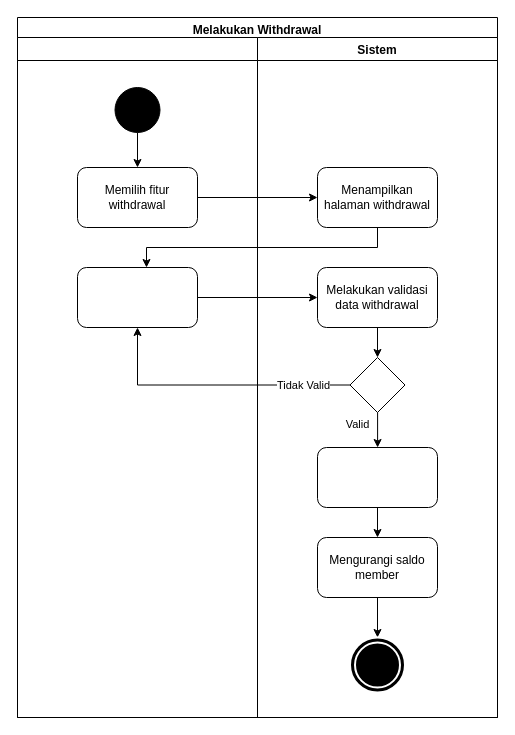
The diagram is 515 pixels wide and 735 high, and some of its shapes have lost their labels. Each missing label, with the box of its shape:
Member: (16, 36, 258, 718)
Mengirimkan uang ke rekening yang tertulis: (316, 446, 438, 508)
Mengisi formulir withdrawal: (76, 266, 198, 328)
